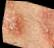plaque psoriasis: (0, 0, 29, 47), (27, 2, 54, 48)
